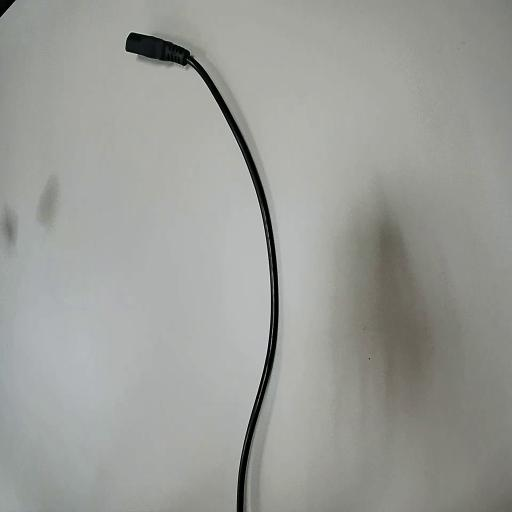wire: (127, 34, 277, 511)
